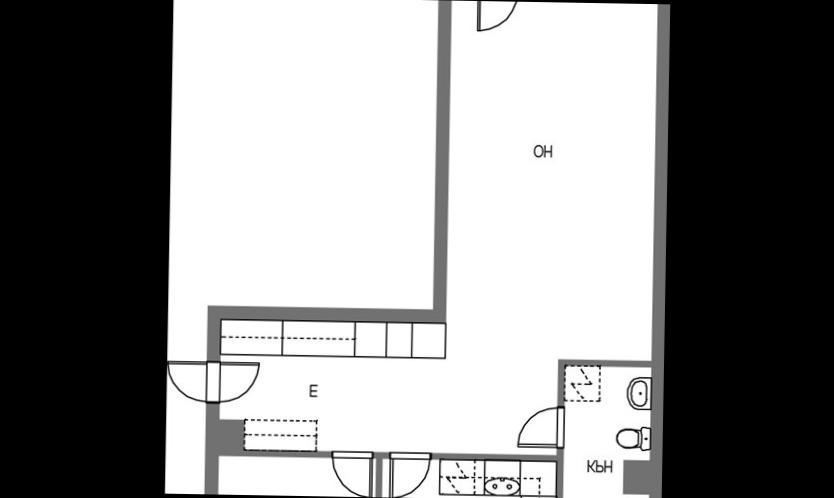door: (203, 358, 264, 408), (510, 406, 566, 453), (167, 356, 218, 407), (383, 447, 432, 498), (326, 450, 376, 498), (474, 1, 519, 37)
